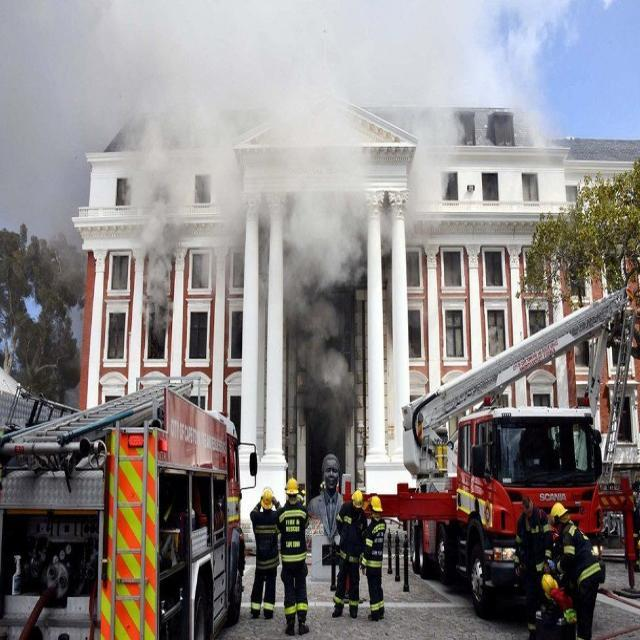Fire: (104, 426, 164, 638)
Smoke: (11, 0, 568, 285), (271, 122, 382, 446)
